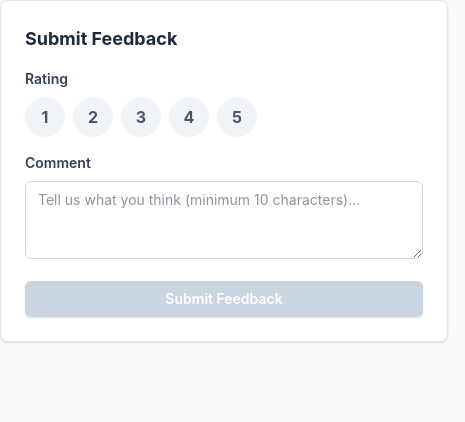
Test: FeedbackForm Component › should show error when submitting empty comment or short comment (<10 chars)
// Select rating
Step 1. Click the button named "Rate 4 stars" → (189, 117), box 169,97 -> 209,137
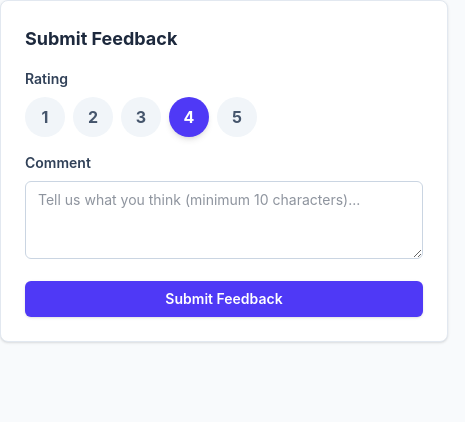
// Type a short comment
Step 2. Type "Good" into the text box labelled "Comment" → (224, 220), box 25,181 -> 423,259
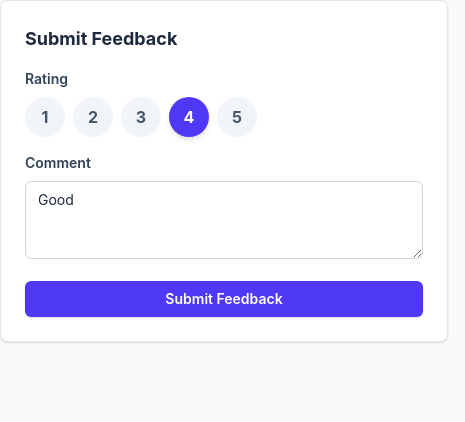
Step 3. Click the button "Submit Feedback" → (224, 299), box 25,281 -> 423,317
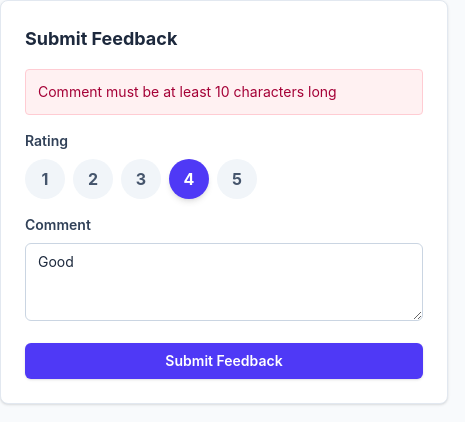
Check: the message reads "Comment must be at least 10 characters long", box 38,83 -> 337,100
